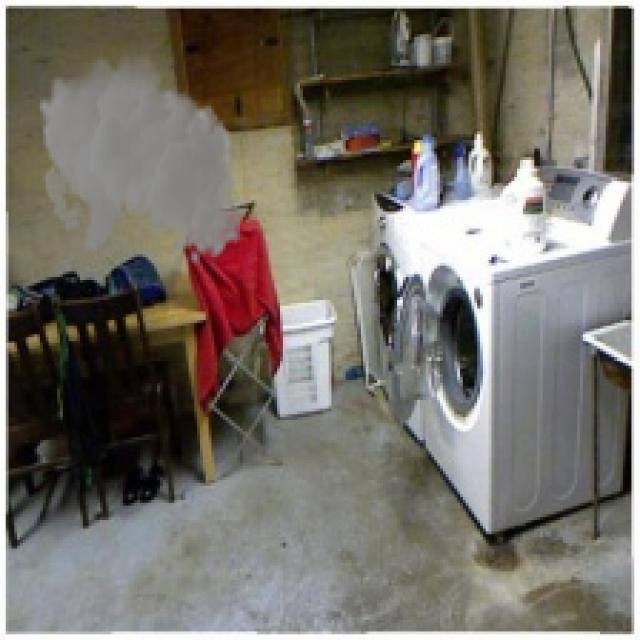smoke: (37, 46, 243, 266)
